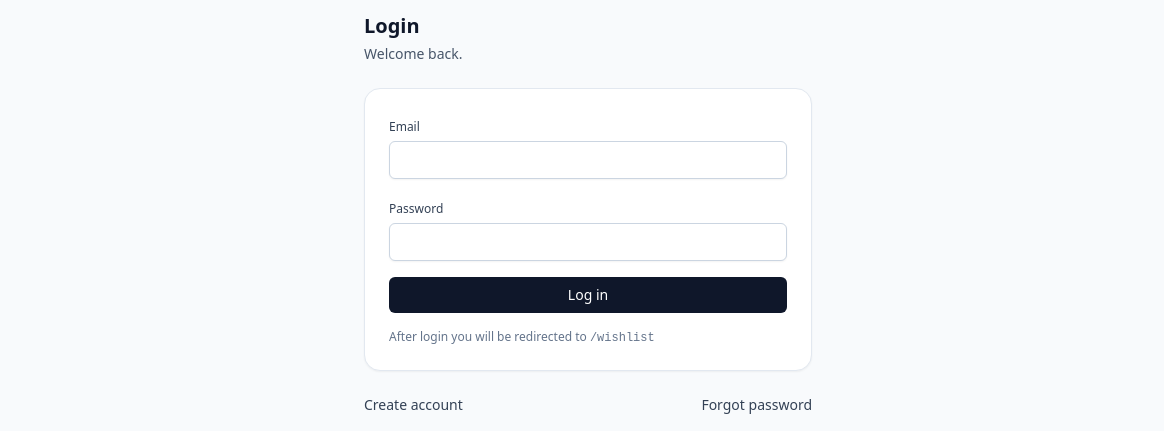
Test: LoginPage › stores token and navigates to a safe returnUrl after login
Type "user@example.com" into the field labelled "Email" at (588, 160), box left=389, top=141, right=787, bottom=179
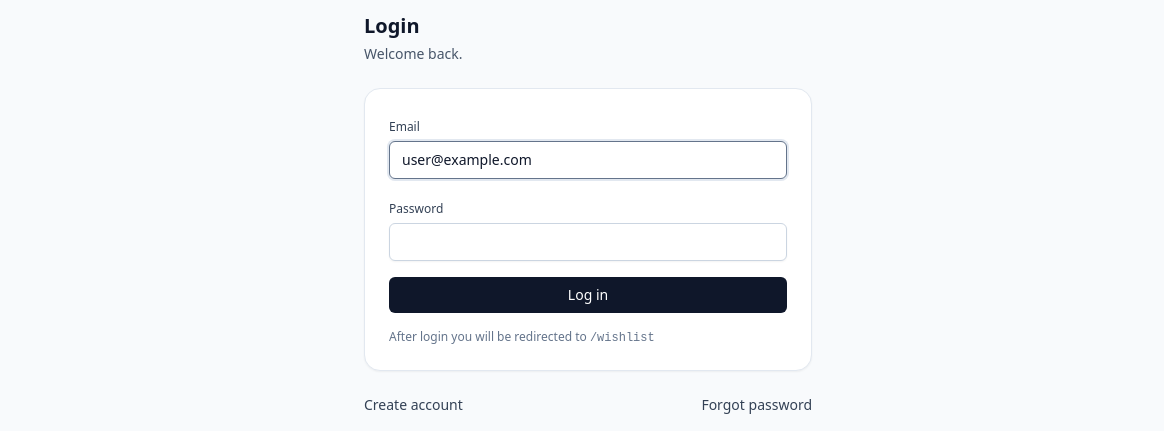
Type "secret" into the password field labelled "Password" at (588, 242), box left=389, top=223, right=787, bottom=261
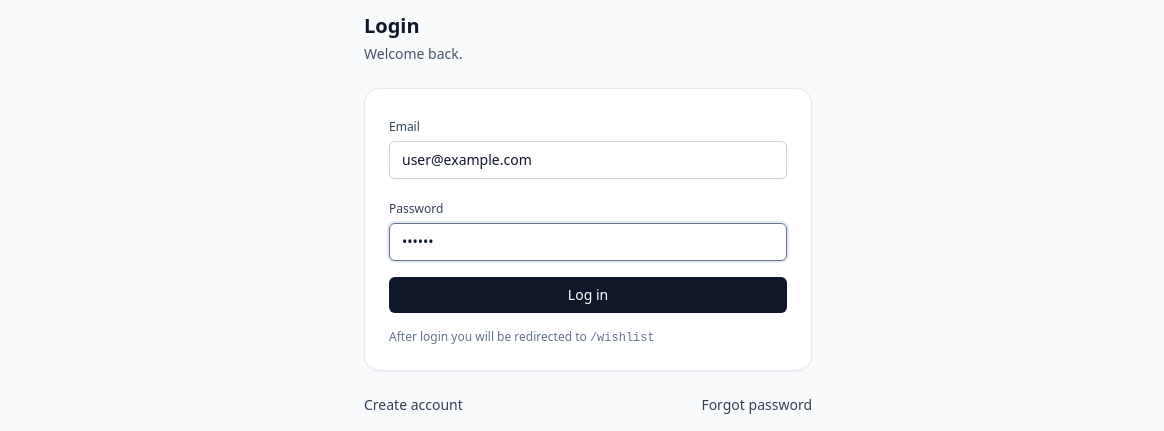
Click the button "Log in" at (588, 295), box left=389, top=277, right=787, bottom=313
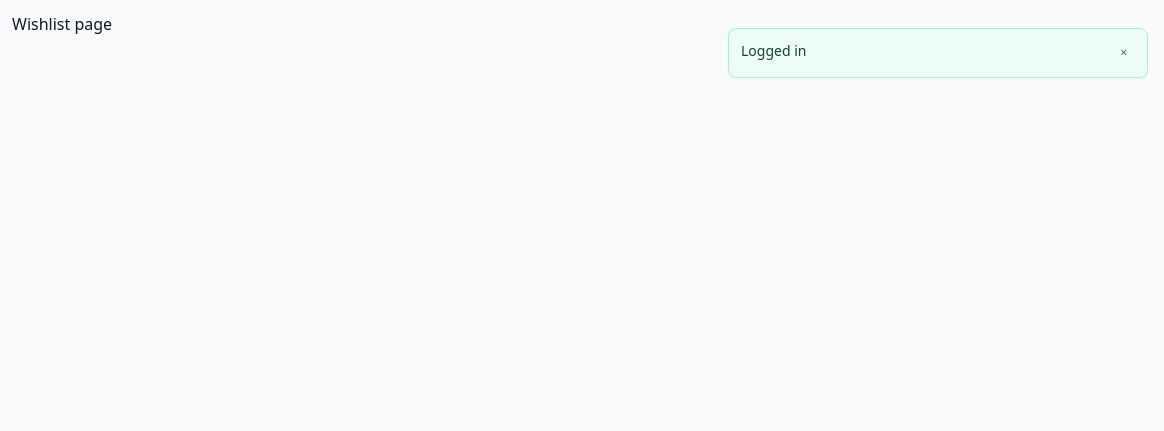
expect the text "Wishlist page" is shown: met, box left=12, top=13, right=112, bottom=35
